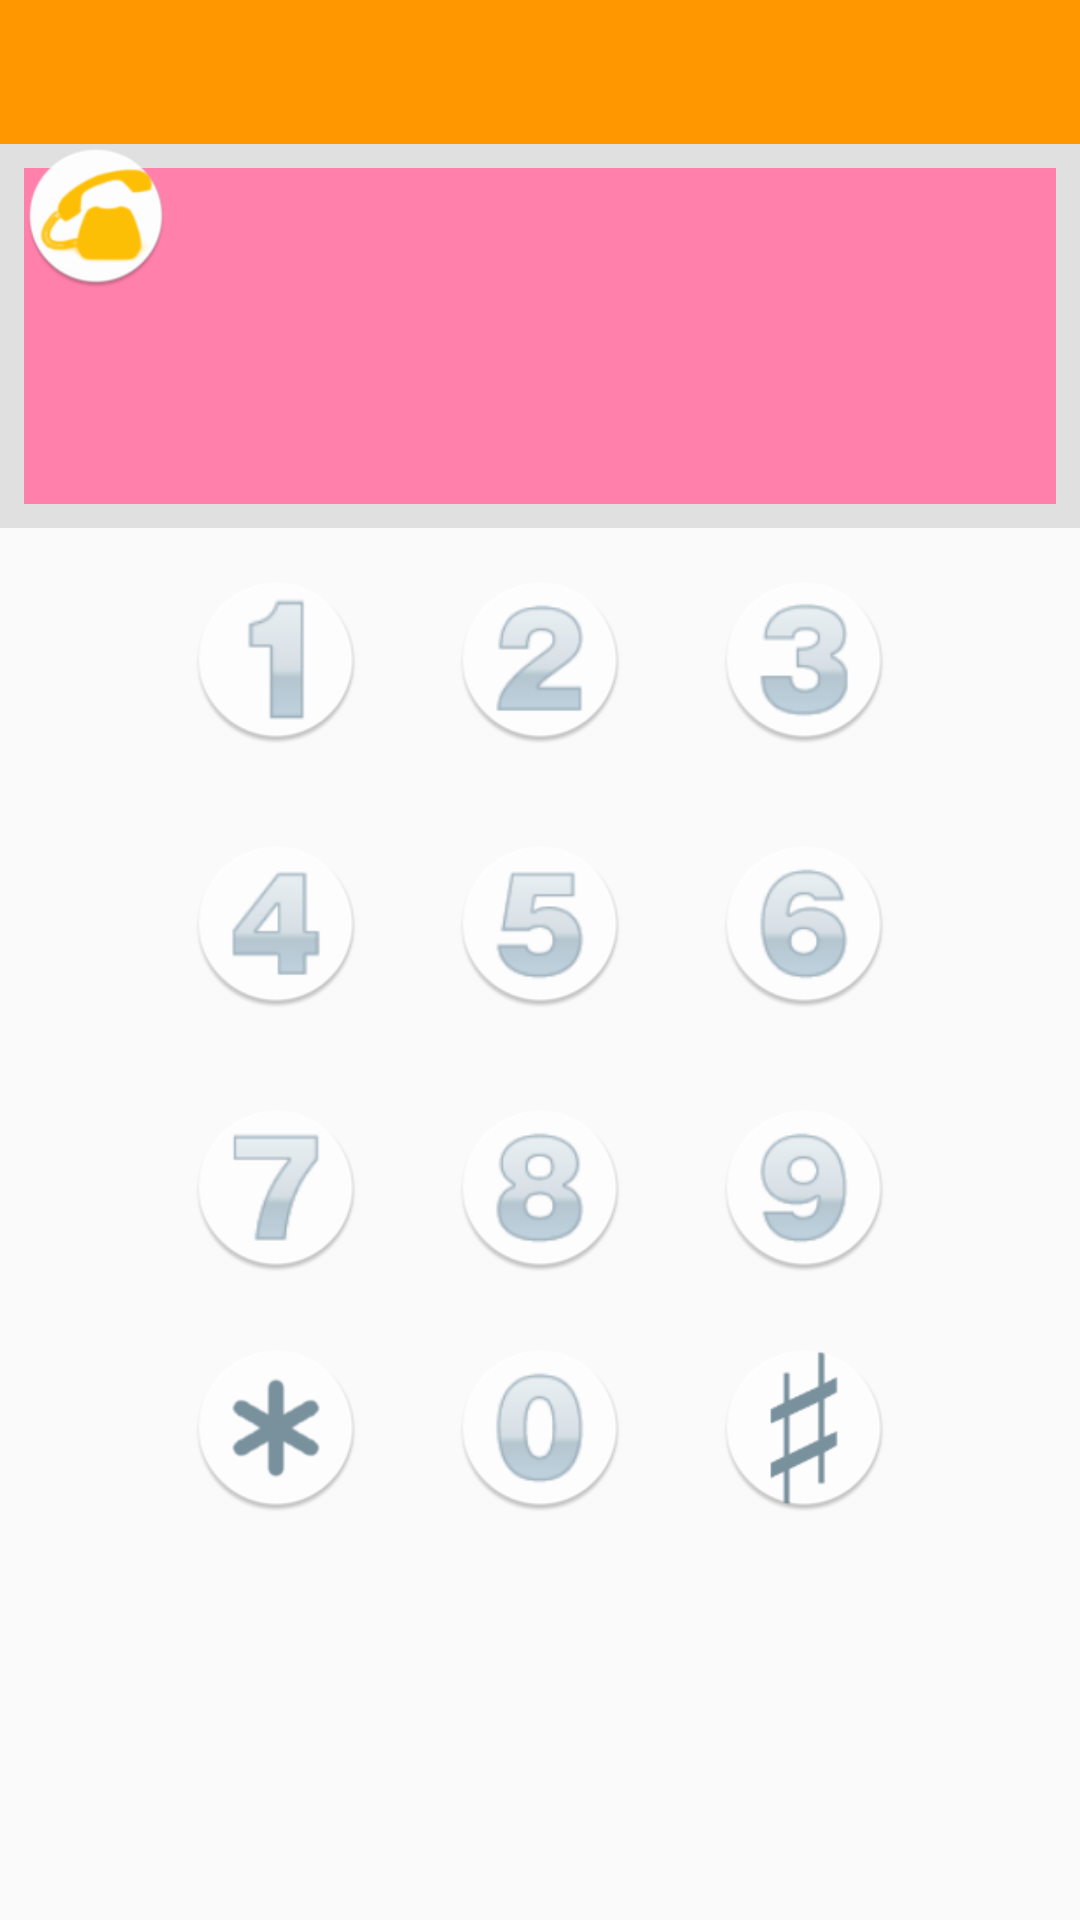

Icon click points for this 1080 x 1920 phone screenshot, format (x,y):
asterisk: (277,1444)
phone: (84,216)
sharp: (805,1430)
